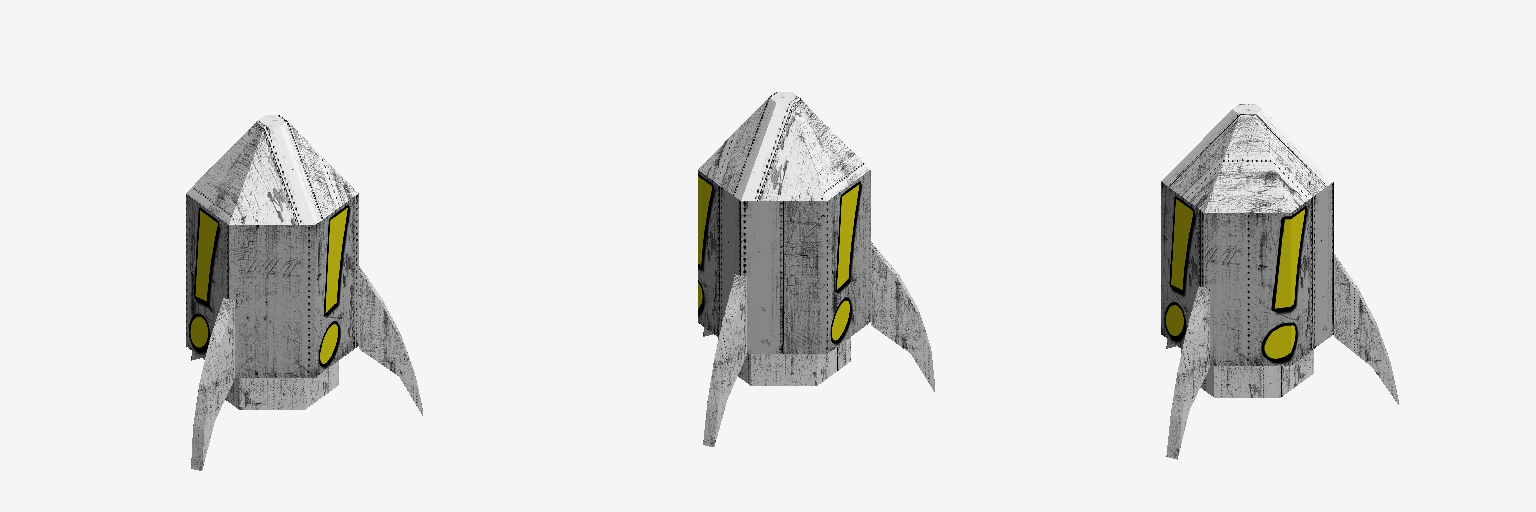
3 views of the same model, side by side, from view 1: azimuth 30°, elevation 25°; view 2: azimuth 150°, elevation 25°; view 3: azimuth 270°, elevation 25° (orthographic).
Parts seen in each view (by area): view 1: Mesh1 Model; view 2: Mesh1 Model; view 3: Mesh1 Model.
Part boxes in pixels (left/top/right/bottom): Mesh1 Model: left=186, top=115, right=422, bottom=470; Mesh1 Model: left=698, top=92, right=934, bottom=446; Mesh1 Model: left=1161, top=104, right=1398, bottom=459.
Bounding box in the file's own units: 1.24 × 1.5 × 1.1.
3 materials, 2 textured.